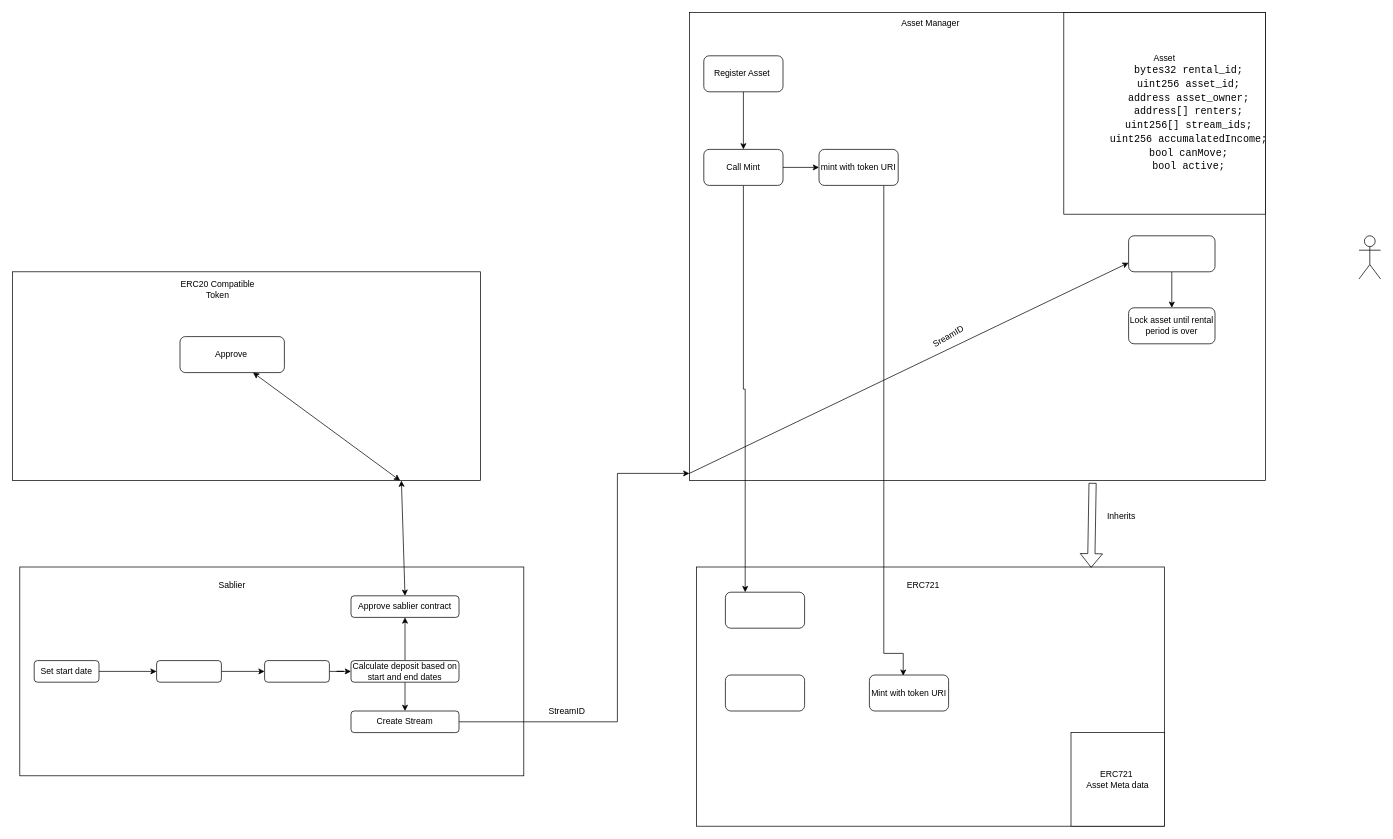
The diagram is 1393 pixels wide and 839 high, and some of its shapes have lost their labels. The centre of each missing label's shape, as x and y in pixels:
"Actor" belongs at (1369,257).
"Burn" belongs at (765,692).
"Mint" belongs at (765,609).
"Register asset rental" belongs at (1171,253).
"Set Deposit" belongs at (296,671).
"Set end date" belongs at (188,671).
